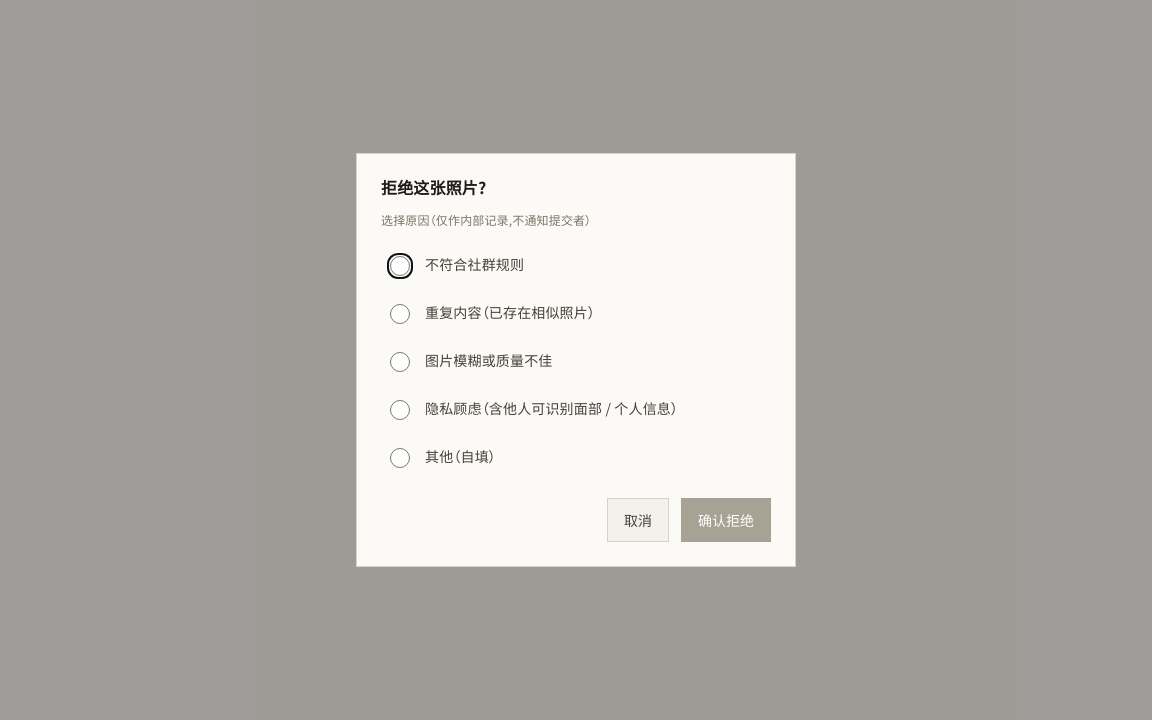
Test case: RejectModal › enables confirm when a non-other radio chosen
This screenshot has width=1152, height=720.
Click the radio button with test id "rm-reason-quality": [400, 362] box 390,352 -> 410,372
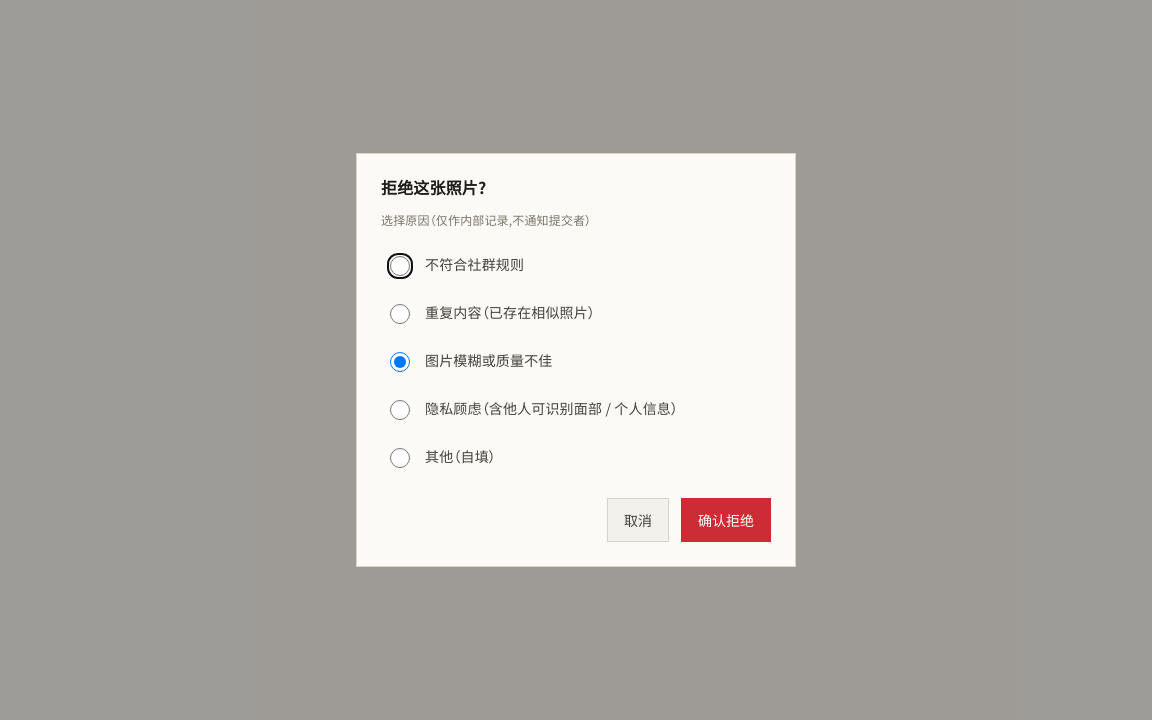
Now the button with test id "rm-confirm" is enabled, box 681,498 -> 771,542
